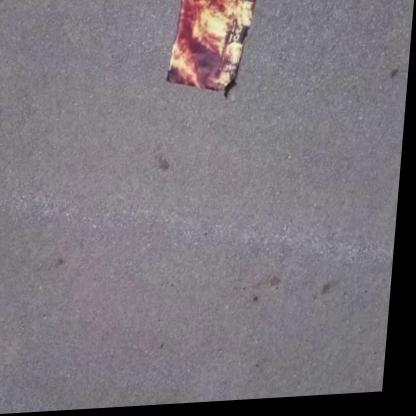fire-poster: (165, 0, 260, 107)
